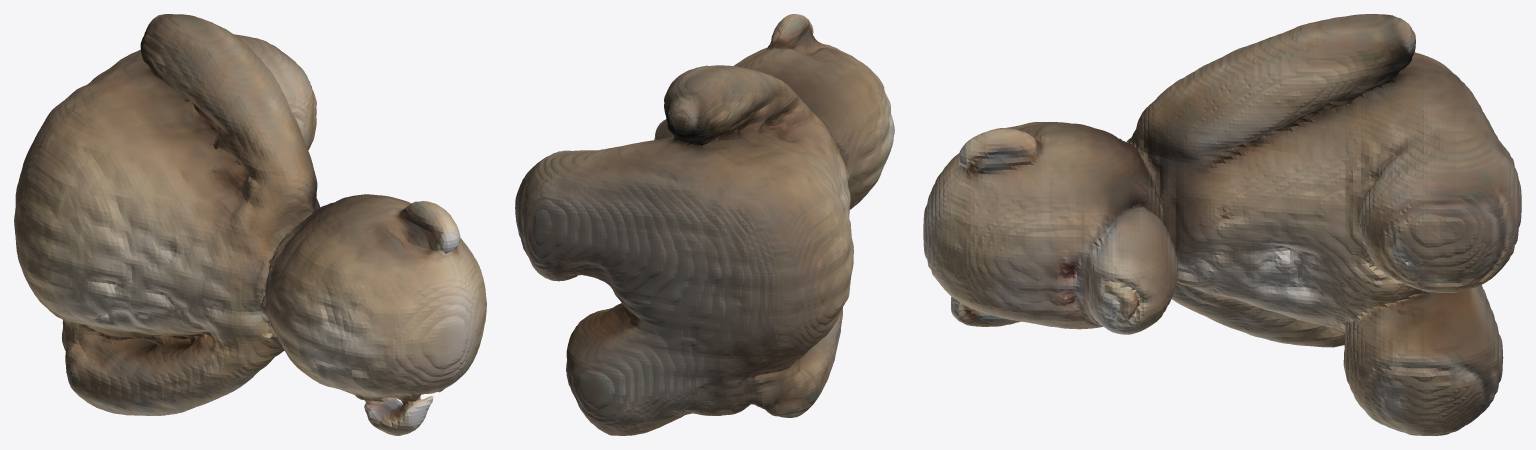
The picture shows the model from 3 angles, left to right: view 1: azimuth 30°, elevation 25°; view 2: azimuth 150°, elevation 25°; view 3: azimuth 270°, elevation 25°; orthographic projection. The views are drawn at different scales.
Visible parts, largest first — view 1: world; view 2: world; view 3: world.
Part boxes in pixels (box(x1,y1,x2,y2)): world: box(14, 14, 486, 435); world: box(515, 14, 894, 435); world: box(923, 14, 1521, 435).
Bounding box in the file's own units: 0.6641 × 0.745 × 1.04.
